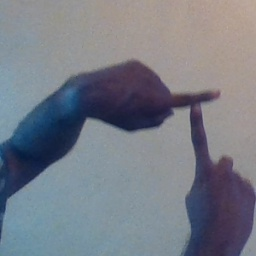T: (134, 59, 244, 181)
